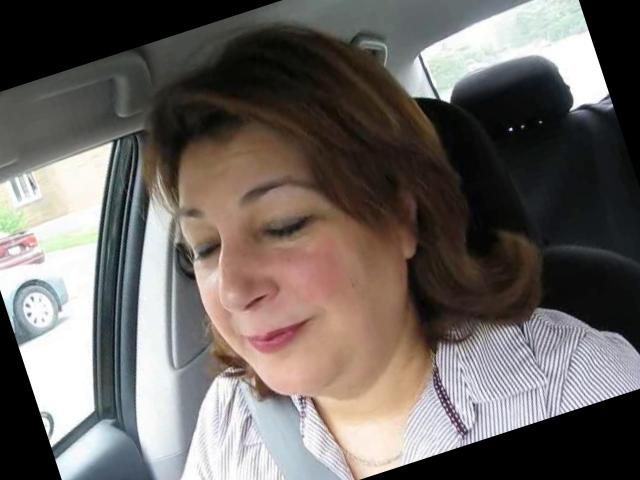eye_closed: (250, 196, 329, 252), (184, 230, 228, 272)
face: (155, 127, 419, 426)
